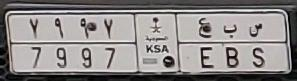7: (99, 18, 116, 70), (28, 17, 44, 70)
9: (51, 17, 68, 69), (77, 15, 93, 69)
B: (221, 23, 240, 69)
E: (198, 16, 216, 70)
S: (249, 23, 266, 70)
